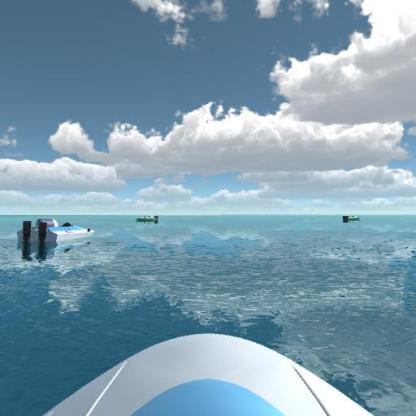usv1: (12, 214, 98, 254), (137, 214, 161, 226)
